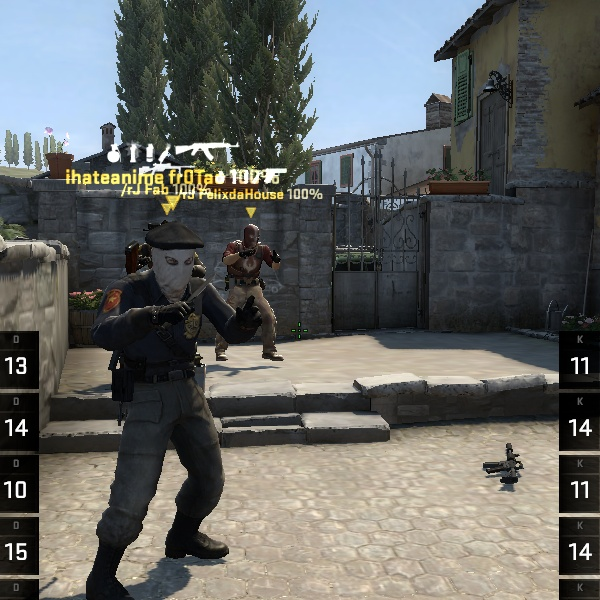t_body: (74, 225, 276, 578), (204, 221, 292, 363)
t_head: (234, 220, 265, 252)
